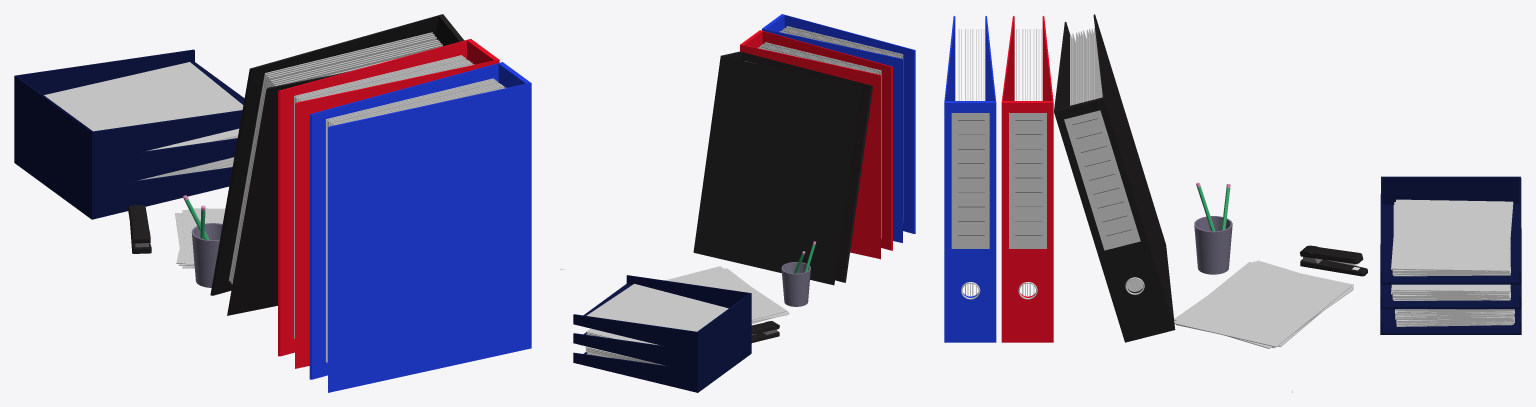
The model's file is classeurs.fbx.
3 renders of one model, left to right at view 1: azimuth 30°, elevation 25°; view 2: azimuth 150°, elevation 25°; view 3: azimuth 270°, elevation 25°, orthographic. The views are drawn at different scales.
Parts seen in each view (by area): view 1: Plane, Plane.016, Plane.015, Plane.029, Plane.030, Plane.025, Plane.027, Plane.018, Circle, Plane.019, Plane.024, Plane.002 (+10 smaller); view 2: Plane.016, Plane.015, Plane, Plane.029, Plane.030, Plane.025, Plane.027, Plane.024, Circle, Plane.006, Plane.009, Plane.026 (+1 smaller); view 3: Plane.016, Plane.030, Plane.024, Plane, Plane.015, Plane.029, Plane.001, Plane.017, Plane.014, Plane.026, Plane.028, Circle (+6 smaller).
Boxes of the visible parts, <box> form: Plane: <box>309,62,531,392</box>; Plane.016: <box>210,14,464,315</box>; Plane.015: <box>278,39,499,368</box>; Plane.029: <box>14,49,244,163</box>; Plane.030: <box>44,62,243,131</box>; Plane.025: <box>14,131,232,219</box>; Plane.027: <box>14,103,237,191</box>; Plane.018: <box>228,32,434,282</box>; Circle: <box>191,223,222,287</box>; Plane.019: <box>231,35,436,284</box>; Plane.024: <box>175,208,225,268</box>; Plane.002: <box>325,78,495,363</box>; Plane.016: <box>693,51,872,285</box>; Plane.015: <box>740,30,892,259</box>; Plane: <box>762,14,915,242</box>; Plane.029: <box>573,275,751,353</box>; Plane.030: <box>586,284,728,331</box>; Plane.025: <box>573,332,751,392</box>; Plane.027: <box>573,312,751,372</box>; Plane.024: <box>665,266,789,323</box>; Circle: <box>781,262,810,306</box>; Plane.006: <box>786,26,903,222</box>; Plane.009: <box>764,42,881,238</box>; Plane.026: <box>585,346,664,365</box>; Plane.016: <box>1054,14,1175,342</box>; Plane.030: <box>1391,199,1513,276</box>; Plane.024: <box>1174,260,1353,348</box>; Plane: <box>944,16,996,342</box>; Plane.015: <box>1001,16,1053,342</box>; Plane.029: <box>1380,176,1521,284</box>; Plane.001: <box>951,113,989,248</box>; Plane.017: <box>1064,110,1140,250</box>; Plane.014: <box>1009,113,1046,248</box>; Plane.026: <box>1395,309,1514,326</box>; Plane.028: <box>1391,284,1510,300</box>; Circle: <box>1194,216,1232,274</box>.
Bounding box in the file's own units: 64.2 × 51.6 × 109.
